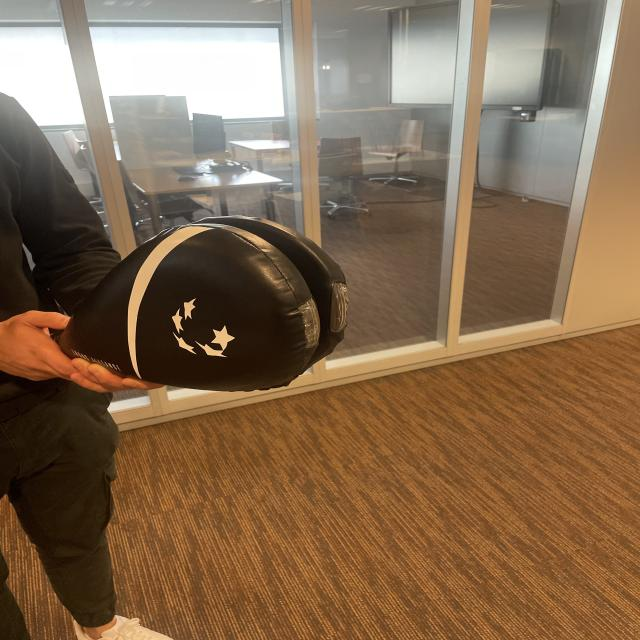paddle: (104, 217, 345, 386)
